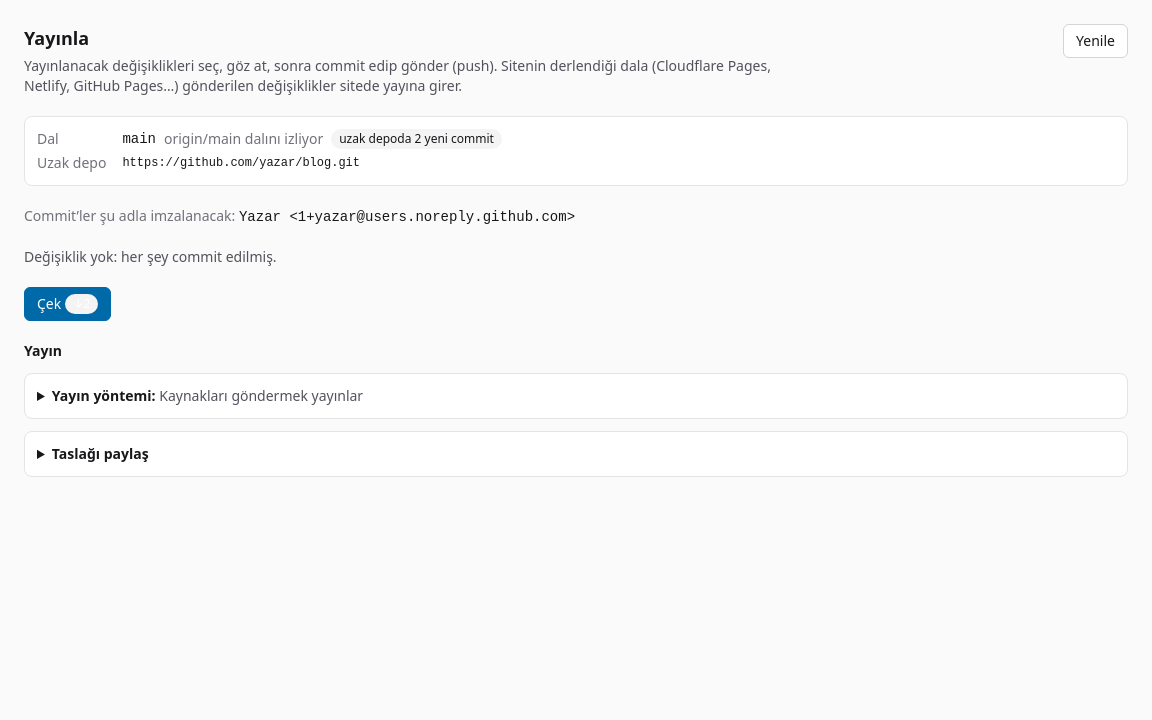
Test case: PublishView › offers pull when behind, reloads files after it, and explains conflicts
The width and height of the screenshot is (1152, 720).
Click the button "Çek ↓2": (68, 304) x1=24 y1=287 x2=111 y2=321
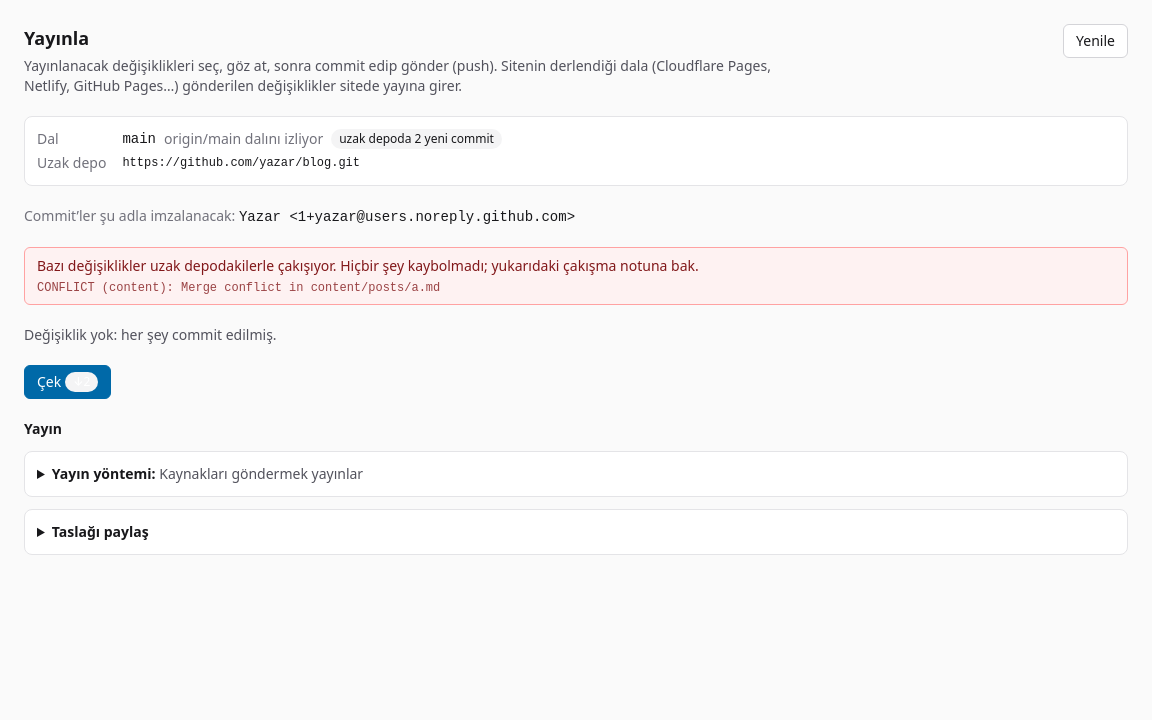
Now the message shows "uzak depodakilerle çakışıyor", box x1=37 y1=256 x2=699 y2=275
Now the message shows "Merge conflict in content/posts/a.md", box x1=37 y1=281 x2=440 y2=295
